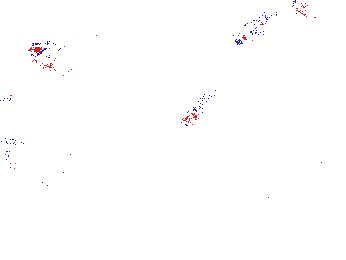X-ray fish: (27, 36, 93, 83)
red belly glassfish: (176, 91, 218, 132), (1, 92, 14, 104)
redtail glassfish: (224, 1, 309, 47)
